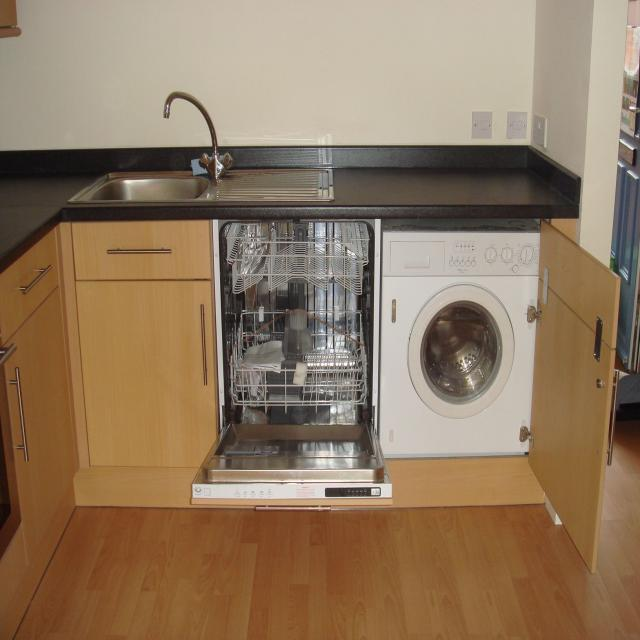dishwasher: (191, 219, 389, 522)
